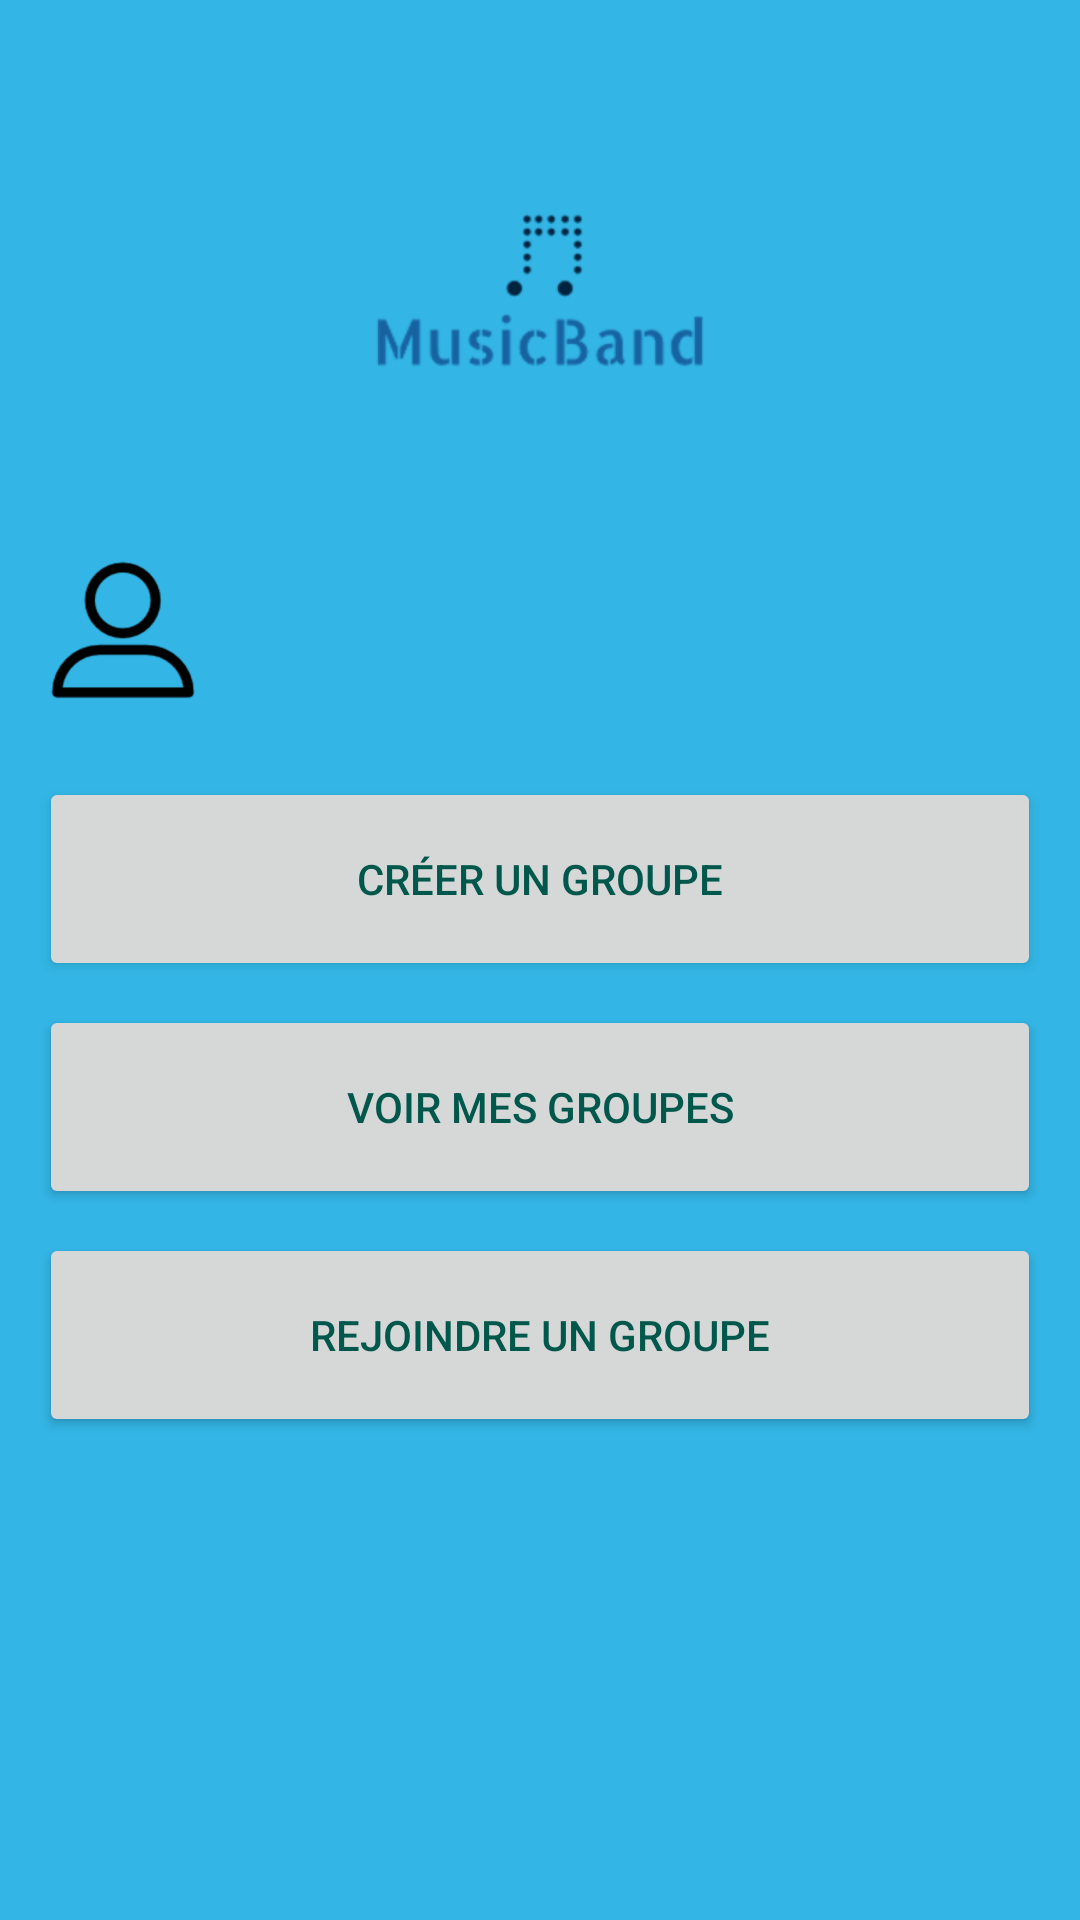

Locate icon controls on the screen. Image size 1080x1920, boxes as (x1, y1, x2, y2).
profil: (51, 562, 195, 698)
